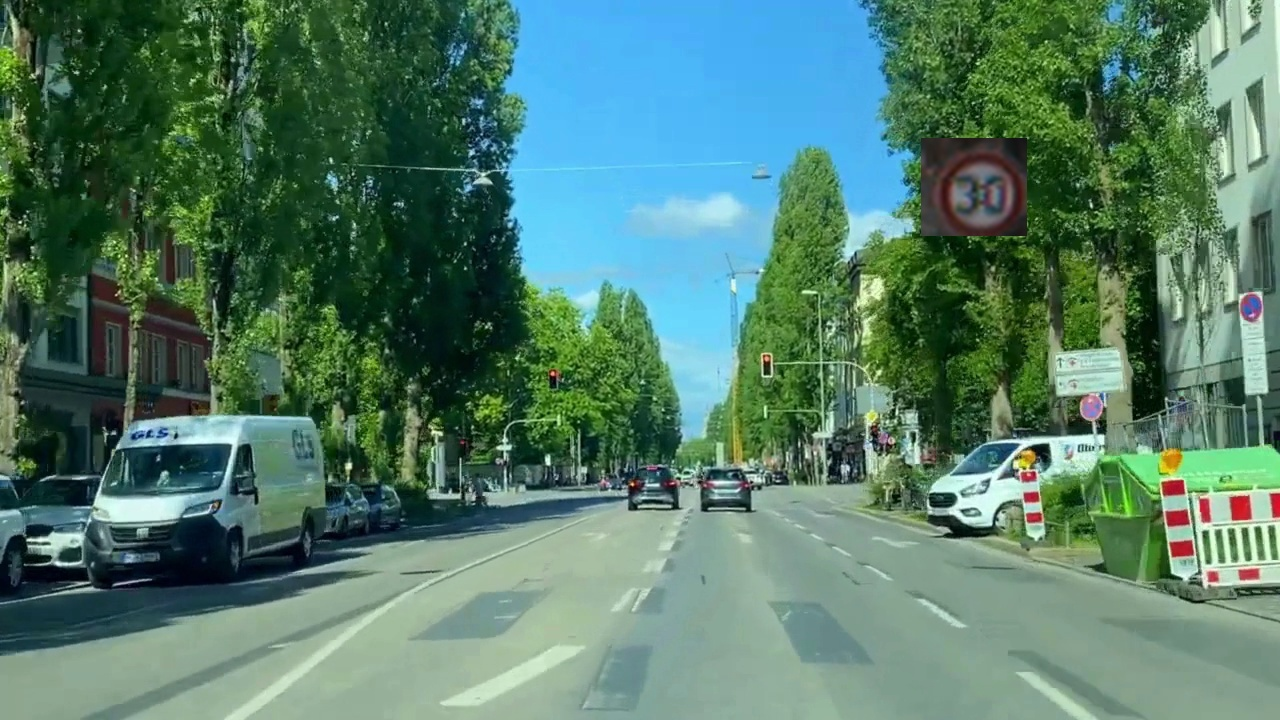Speed 30: (921, 138, 1027, 236)
